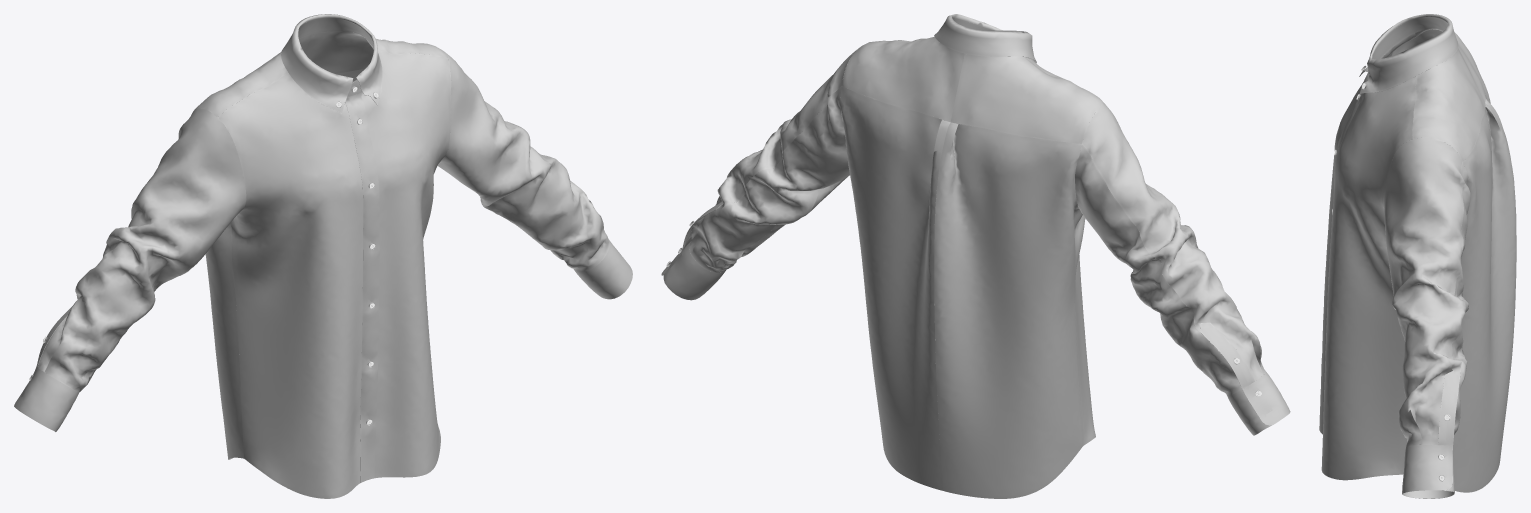
The model's file is shirt.glb.
3 renders of one model, left to right at view 1: azimuth 30°, elevation 25°; view 2: azimuth 150°, elevation 25°; view 3: azimuth 270°, elevation 25°, orthographic.
Visible parts, largest first — view 1: FullS; view 2: FullS; view 3: FullS.
Boxes of the visible parts, x1=… form: FullS: x1=14, y1=14, x2=632, y2=498; FullS: x1=661, y1=14, x2=1290, y2=498; FullS: x1=1319, y1=14, x2=1516, y2=498.
Size of the model in its own units: 4.54 by 3.12 by 1.27.
6 materials, 6 textured.
